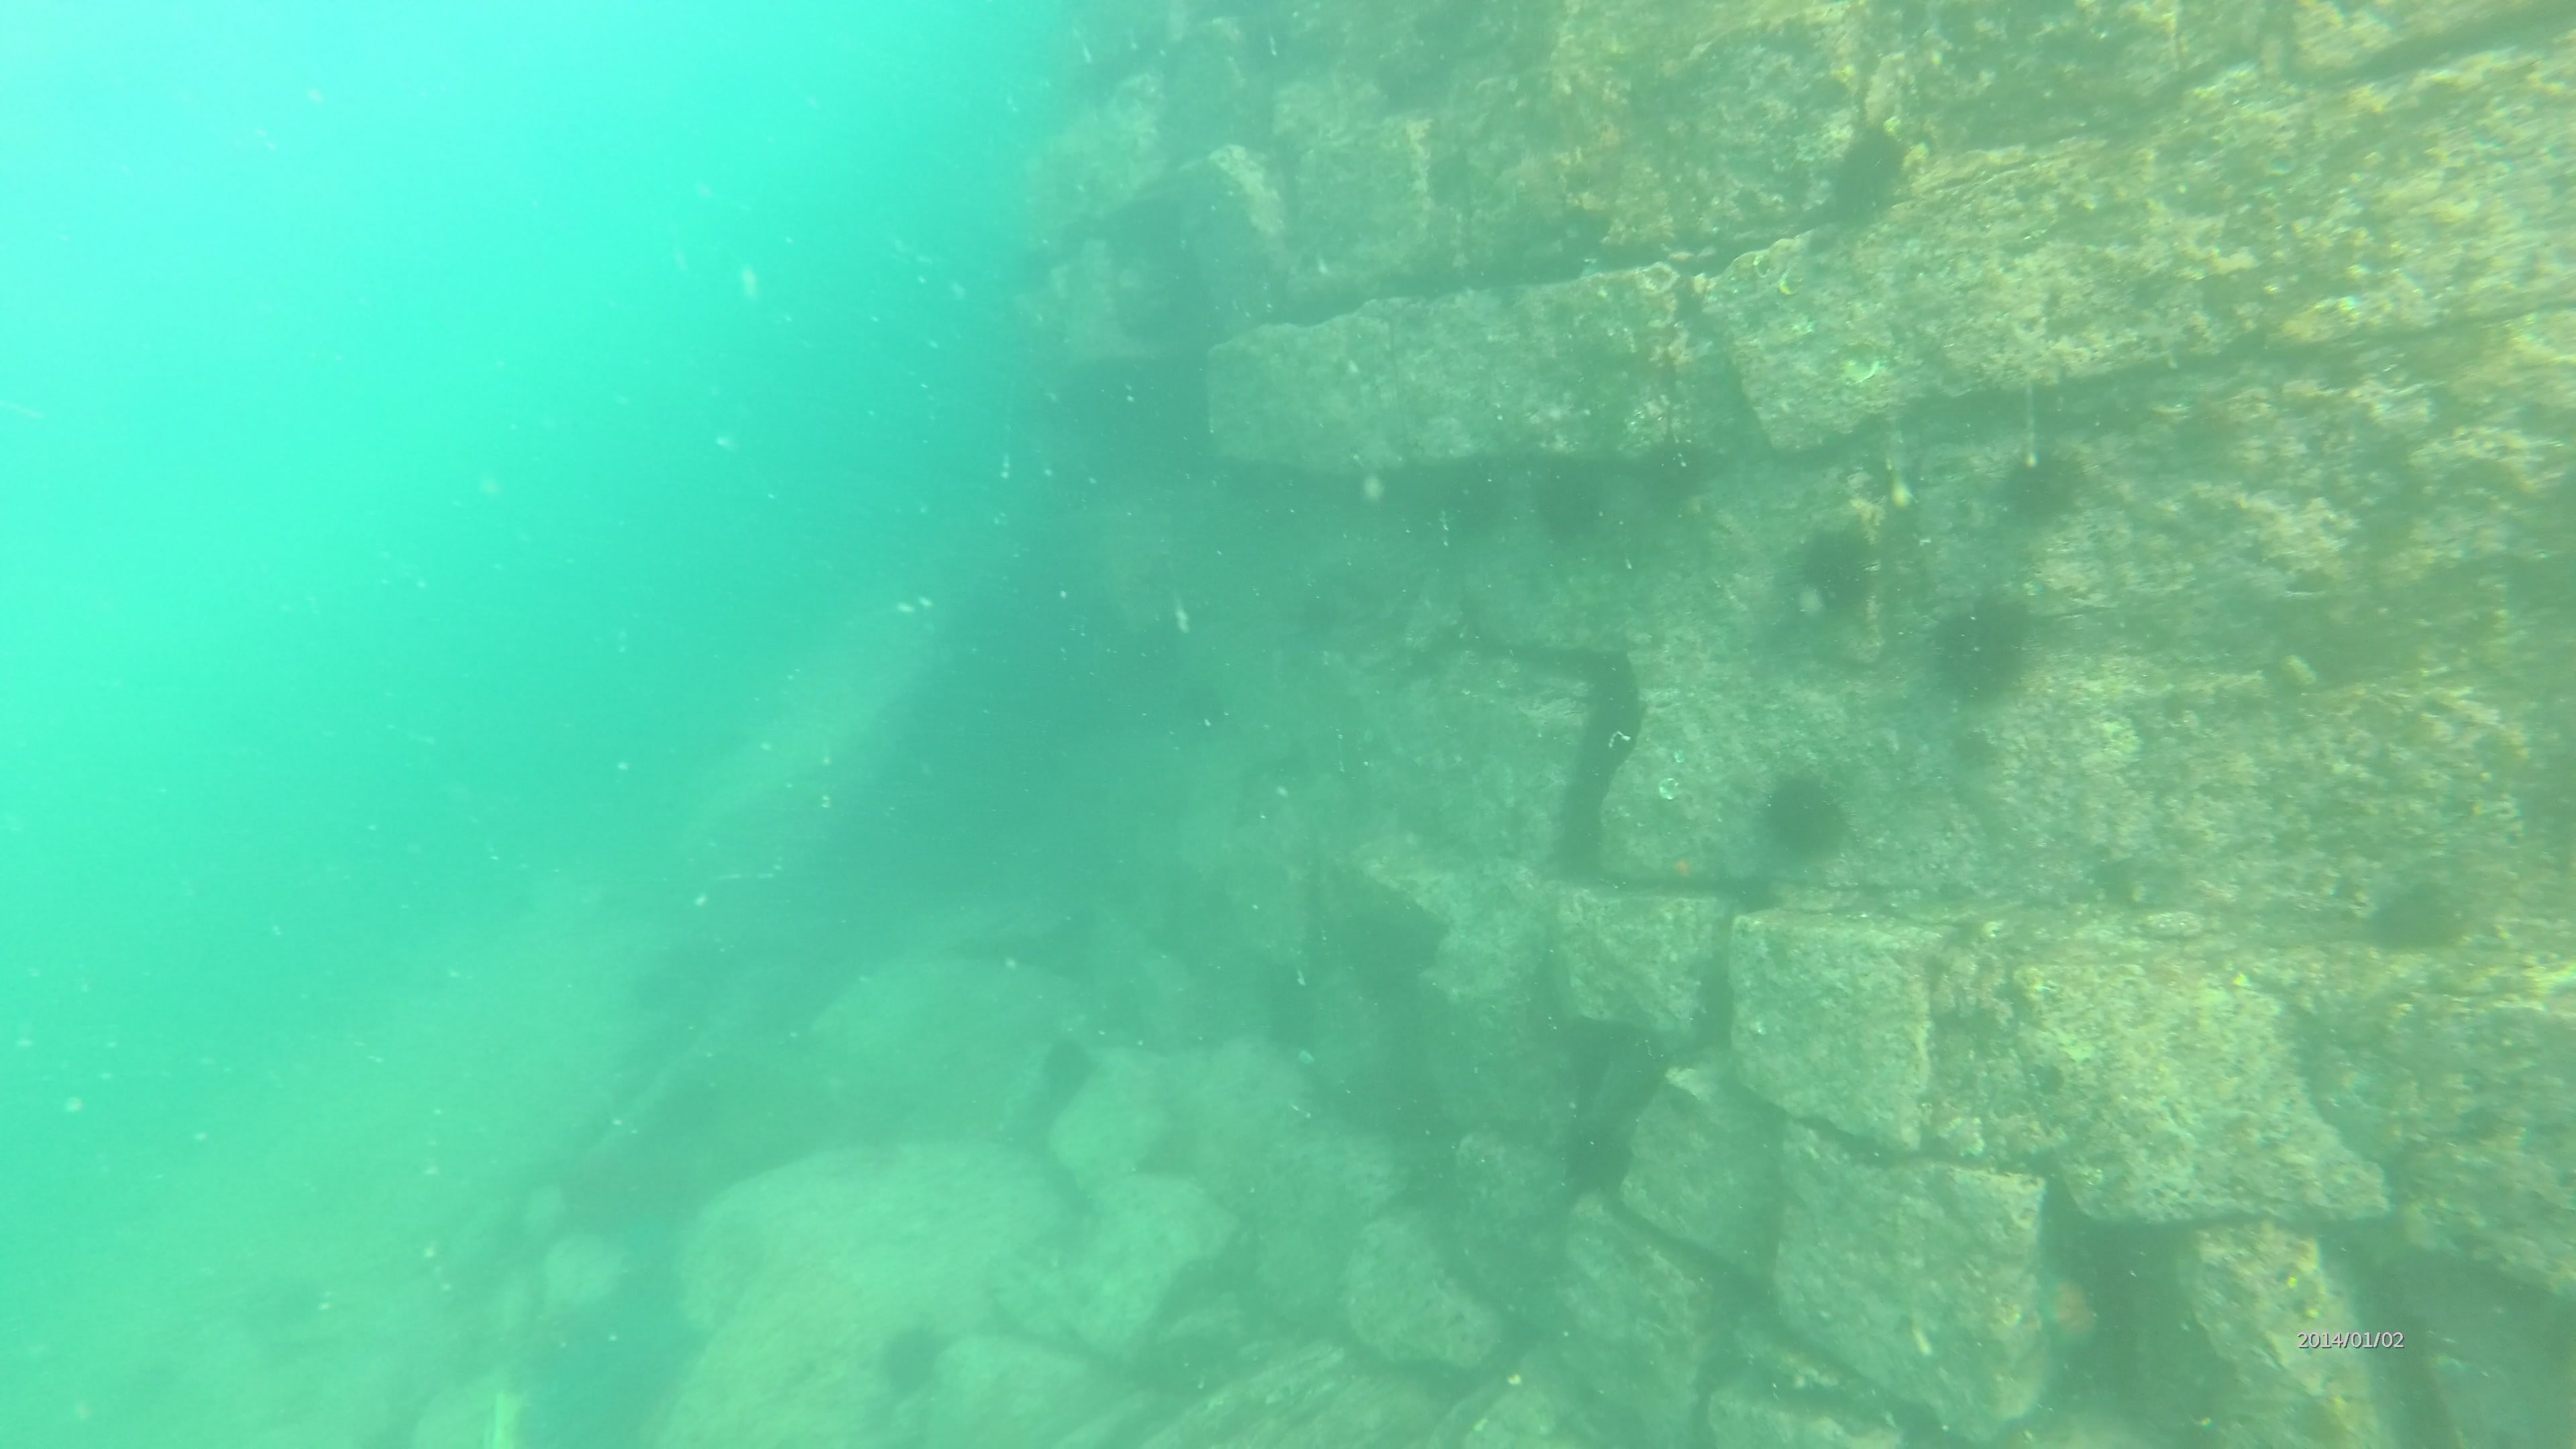echinus: (1934, 586, 2035, 699), (1762, 766, 1858, 863), (1799, 518, 1886, 609), (1994, 448, 2084, 524), (1530, 455, 1605, 534), (1635, 432, 1709, 508), (876, 1325, 952, 1396), (1431, 460, 1506, 531)
starfish: (2035, 1263, 2112, 1353)
